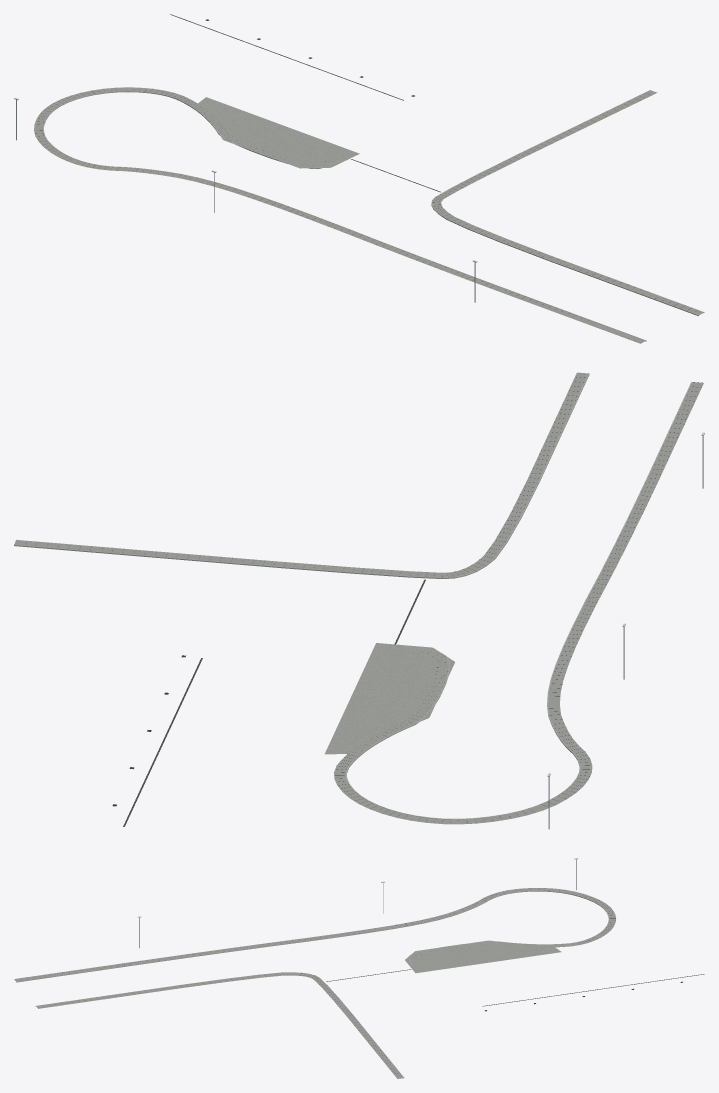
Rendered from kerbs_drainage.glb.
3 renders of one model, top to bottom at view 1: azimuth 30°, elevation 25°; view 2: azimuth 150°, elevation 25°; view 3: azimuth 270°, elevation 25°, orthographic. The views are drawn at different scales.
Parts seen in each view (by area): view 1: kerbs_drainage_163, kerbs_drainage_164; view 2: kerbs_drainage_163, kerbs_drainage_164; view 3: kerbs_drainage_163, kerbs_drainage_164, kerbs_drainage_159.
Part boxes in pixels (x1,y1,x2,y2): kerbs_drainage_163: (34,87,704,343); kerbs_drainage_164: (43,90,698,341); kerbs_drainage_163: (14,372,703,824); kerbs_drainage_164: (14,373,692,819); kerbs_drainage_163: (14,888,615,1078); kerbs_drainage_164: (16,890,609,1078); kerbs_drainage_159: (326,969,704,1011).
Bounding box in the file's own units: 106 × 9.34 × 160.
Materials: 6 (2 with a texture image).
